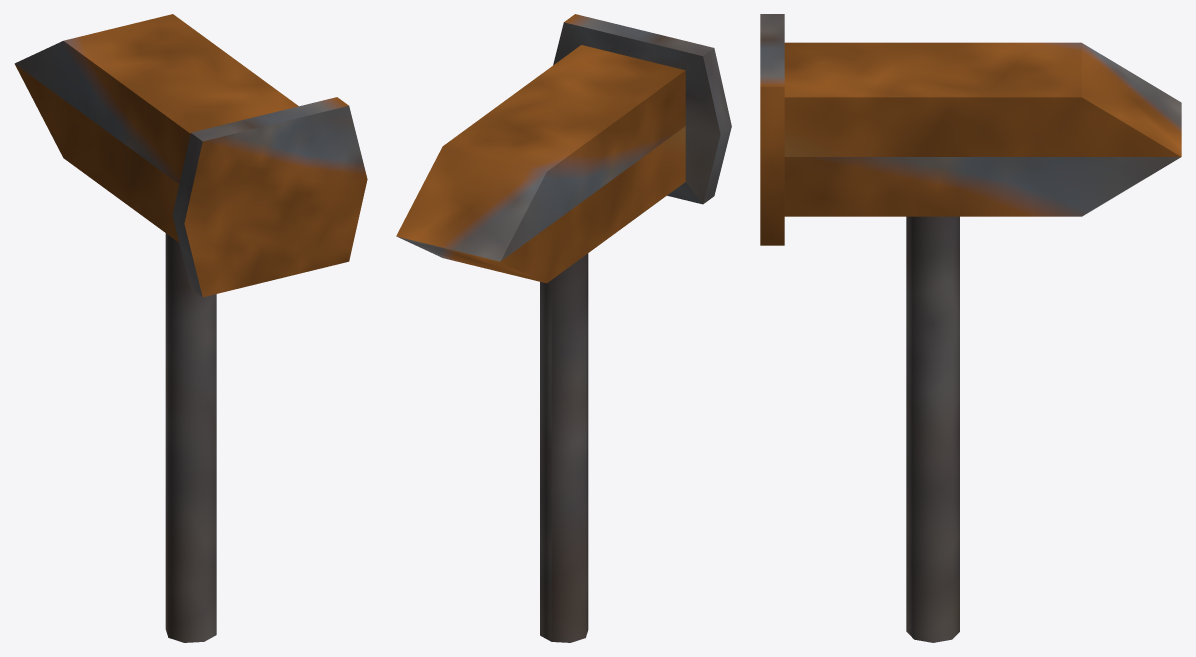
Rendered from SM_BlacksmithHammer.fbx.
The picture shows the model from 3 angles, left to right: view 1: azimuth 30°, elevation 25°; view 2: azimuth 150°, elevation 25°; view 3: azimuth 270°, elevation 25°; orthographic projection. The views are drawn at different scales.
Parts seen in each view (by area): view 1: Hammer1_pCylinder218; view 2: Hammer1_pCylinder218; view 3: Hammer1_pCylinder218.
Boxes of the visible parts, <box> form: Hammer1_pCylinder218: <box>14,14,367,642</box>; Hammer1_pCylinder218: <box>396,14,731,642</box>; Hammer1_pCylinder218: <box>760,14,1181,642</box>.
Size of the model in its own units: 80.37 by 239 by 157.
